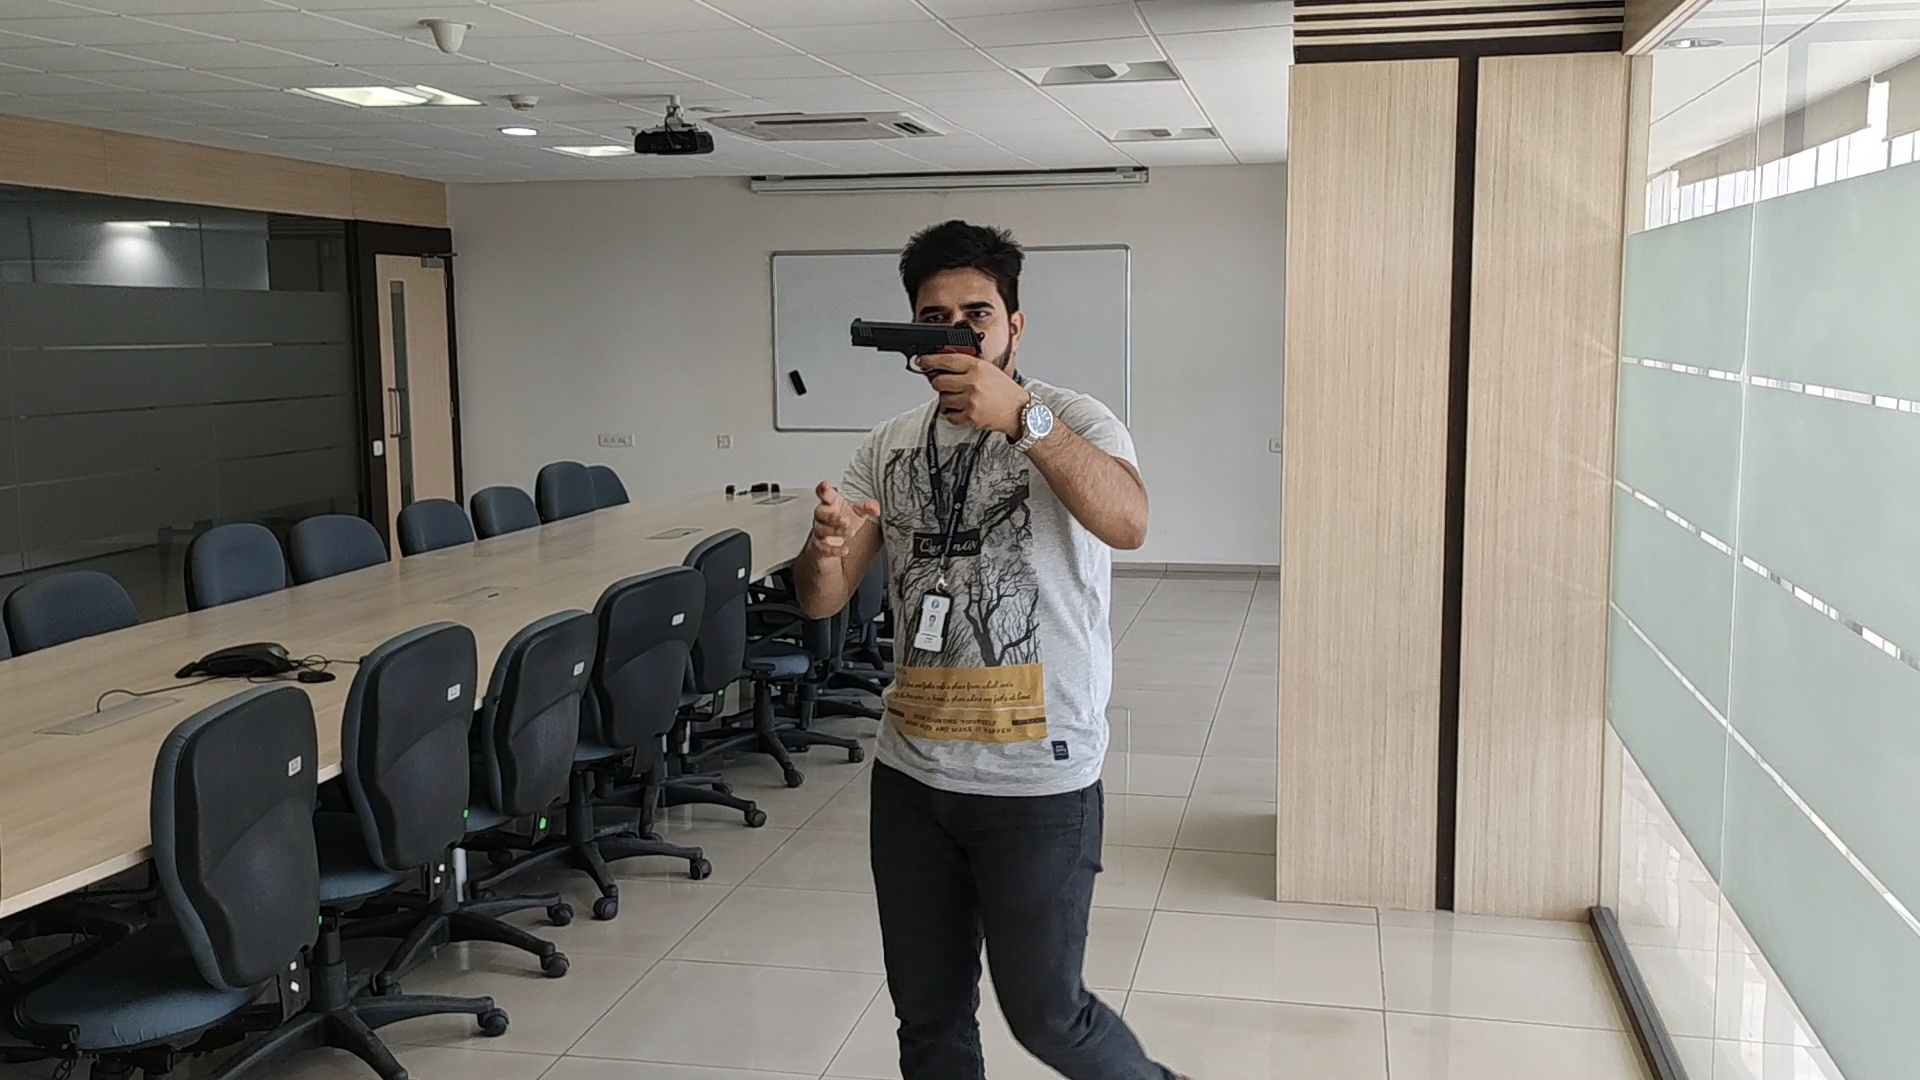gun: (851, 316, 985, 353)
